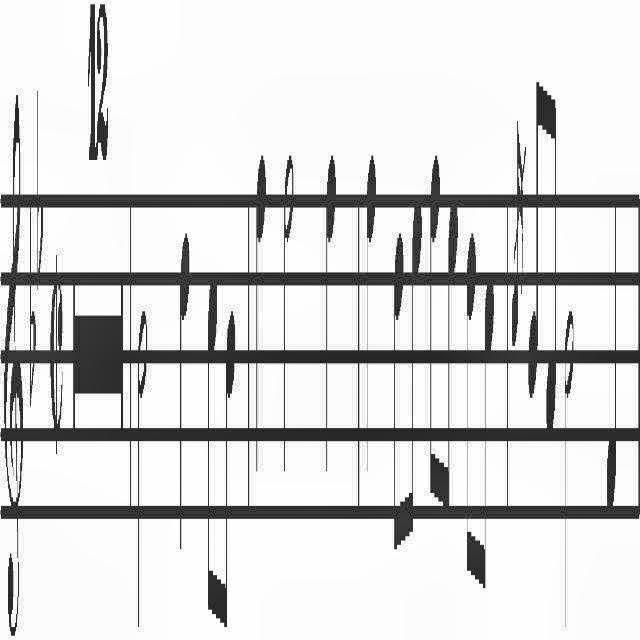Bass-clef: (3, 86, 24, 640)
Bemol: (28, 192, 36, 416), (36, 72, 44, 296)
Eighth-note: (406, 193, 422, 582), (478, 269, 494, 599), (544, 73, 558, 439), (445, 193, 459, 549), (222, 296, 236, 640), (527, 62, 541, 406), (206, 272, 218, 640), (465, 226, 477, 592), (392, 223, 404, 579), (429, 150, 441, 506)
Half-note: (137, 292, 149, 636), (564, 296, 576, 636), (283, 146, 295, 482)
Quarter-note: (178, 226, 190, 572), (606, 177, 618, 523), (324, 142, 336, 486), (364, 153, 376, 483), (256, 133, 266, 489)
